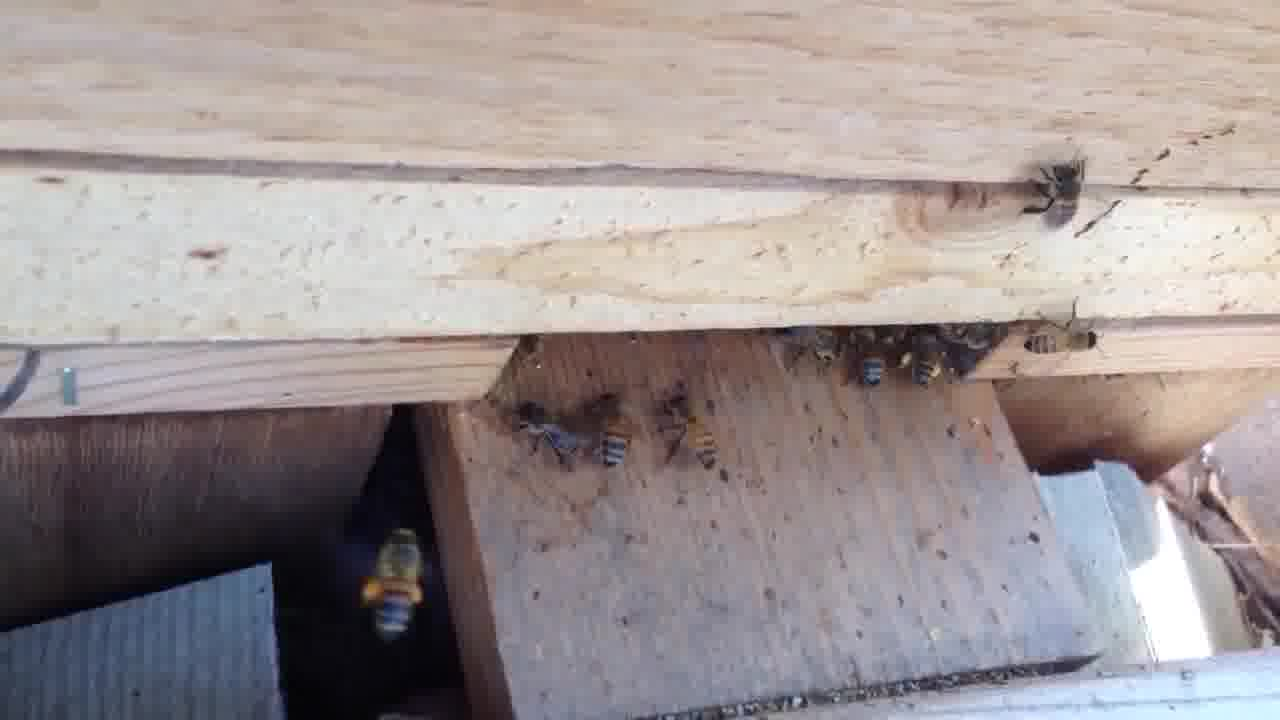pollen: (365, 519, 431, 630)
